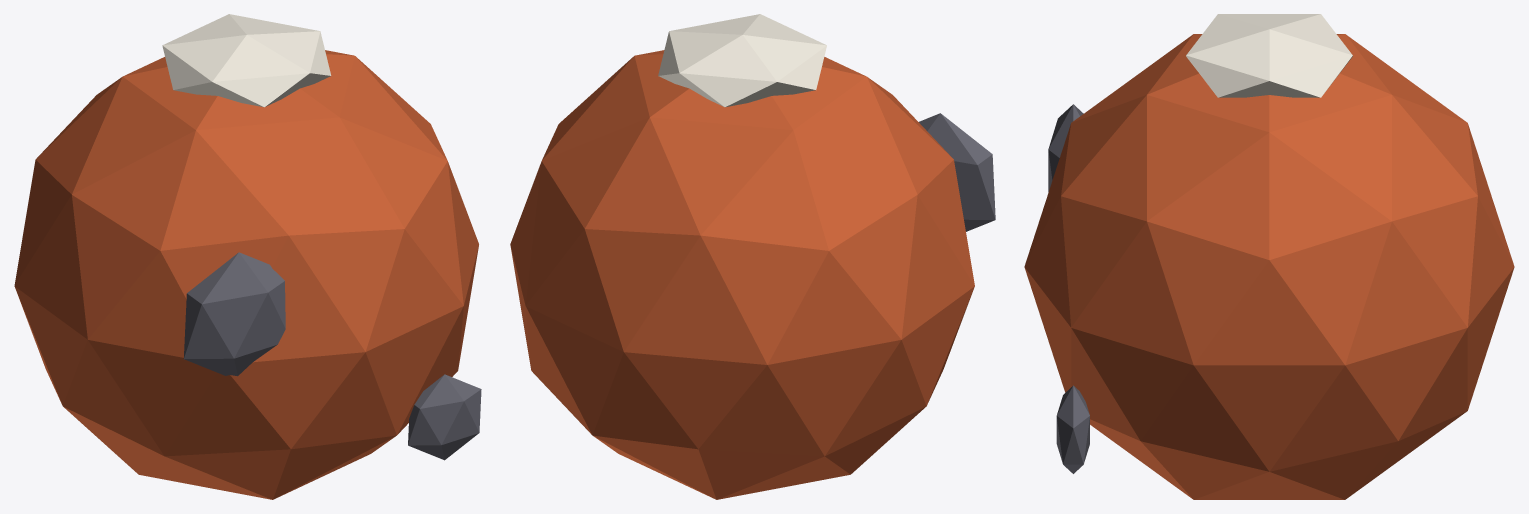
The model's file is lowpoly-planet_mars.glb.
3 renders of one model, left to right at view 1: azimuth 30°, elevation 25°; view 2: azimuth 150°, elevation 25°; view 3: azimuth 270°, elevation 25°, orthographic. The views are drawn at different scales.
Visible parts, largest first — view 1: planet_mars; view 2: planet_mars; view 3: planet_mars.
Part boxes in pixels (x1,y1,x2,y2): planet_mars: [14, 14, 481, 499]; planet_mars: [510, 14, 995, 499]; planet_mars: [1024, 14, 1514, 499].
Size of the model in its own units: 1.9 by 2.07 by 2.
